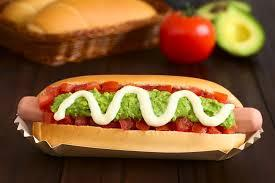Completos: (17, 71, 253, 153)
